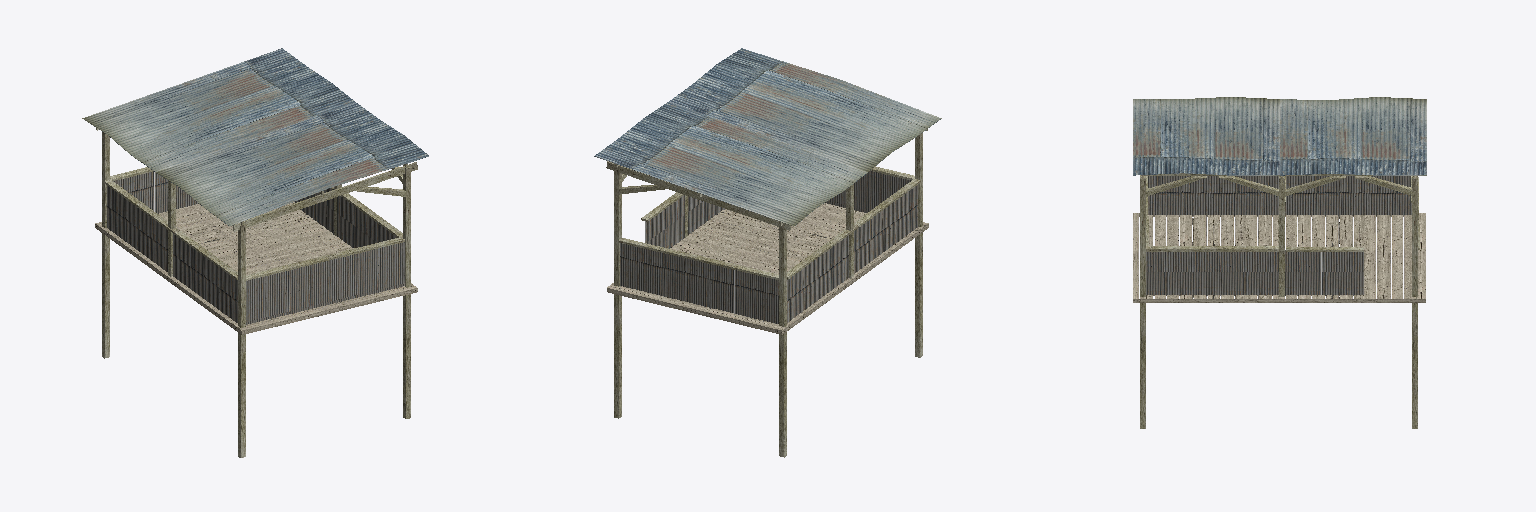
3 views of the same model, side by side, from view 1: azimuth 30°, elevation 25°; view 2: azimuth 150°, elevation 25°; view 3: azimuth 270°, elevation 25° (orthographic).
Visible parts, largest first — view 1: rust4, rust7, woodplank2, woodplank1; view 2: rust4, rust7, woodplank2, woodplank1; view 3: rust4, rust7, woodplank1, woodplank2.
Part boxes in pixels (x1,y1,x2,y2): rust4: (82, 48, 428, 225); rust7: (107, 171, 404, 324); woodplank2: (96, 128, 417, 457); woodplank1: (95, 202, 417, 334); rust4: (594, 48, 941, 225); rust7: (620, 171, 917, 323); woodplank2: (606, 129, 927, 457); woodplank1: (607, 203, 928, 334); rust4: (1133, 97, 1426, 175); rust7: (1146, 176, 1411, 295); woodplank1: (1133, 213, 1425, 302); woodplank2: (1140, 173, 1419, 428).
Bounding box in the file's own units: 5.84 × 7.36 × 7.46.
5 materials, 5 textured.